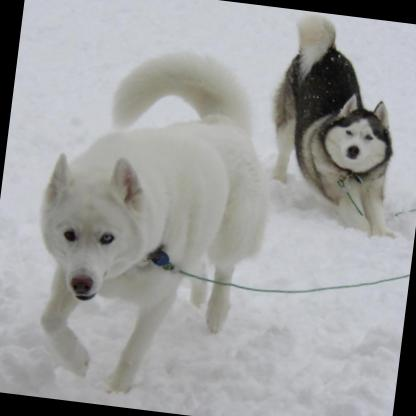Eskimo_dog: (18, 36, 282, 407), (256, 8, 416, 238)
